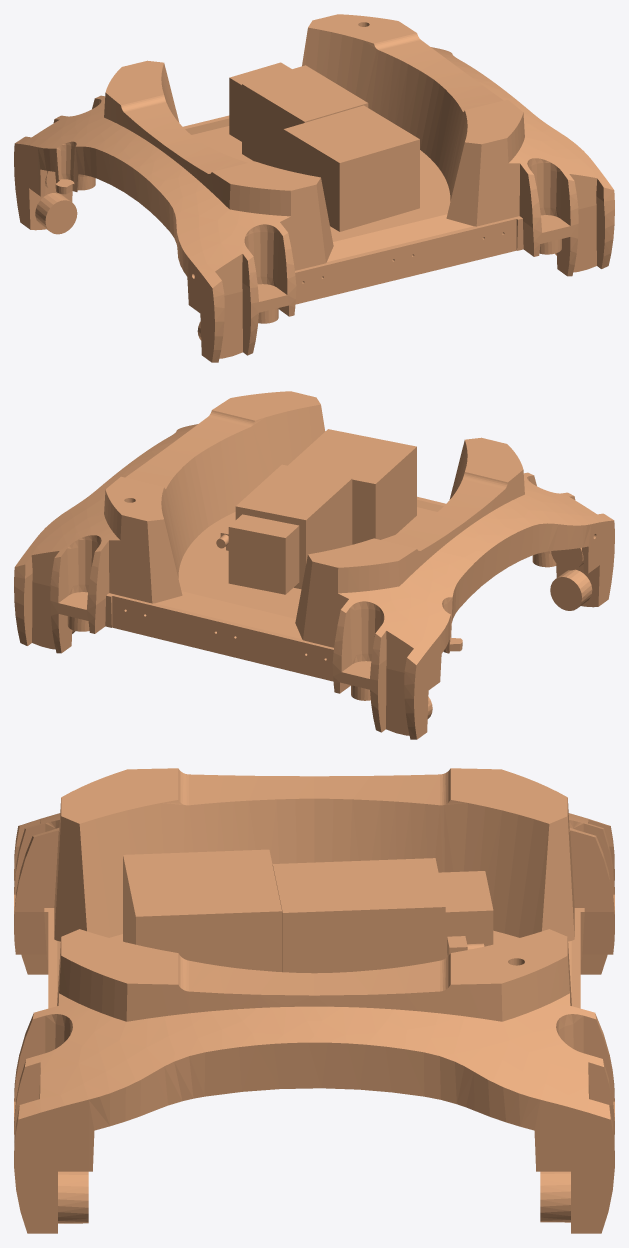
Rendered from kl2000_mobile_base.dae.
3 views of the same model, one above another, from view 1: azimuth 30°, elevation 25°; view 2: azimuth 150°, elevation 25°; view 3: azimuth 270°, elevation 25° (orthographic). The views are drawn at different scales.
Visible parts, largest first — view 1: node0; view 2: node0; view 3: node0.
Boxes of the visible parts, <box> form: node0: <box>14,14,614,362</box>; node0: <box>14,391,614,739</box>; node0: <box>14,768,614,1233</box>.
Size of the model in its own units: 1.14 by 0.9819 by 0.392.
